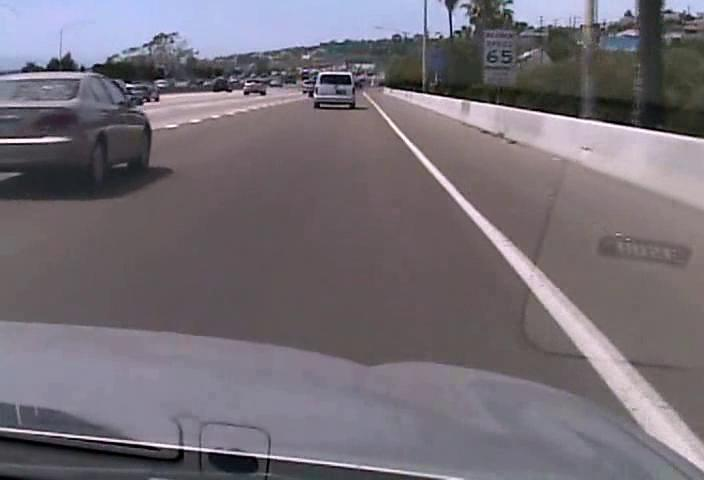speedLimit65: (481, 28, 517, 68)
